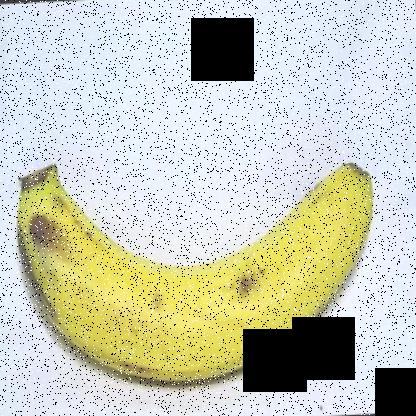freshripe: (4, 145, 386, 399)
